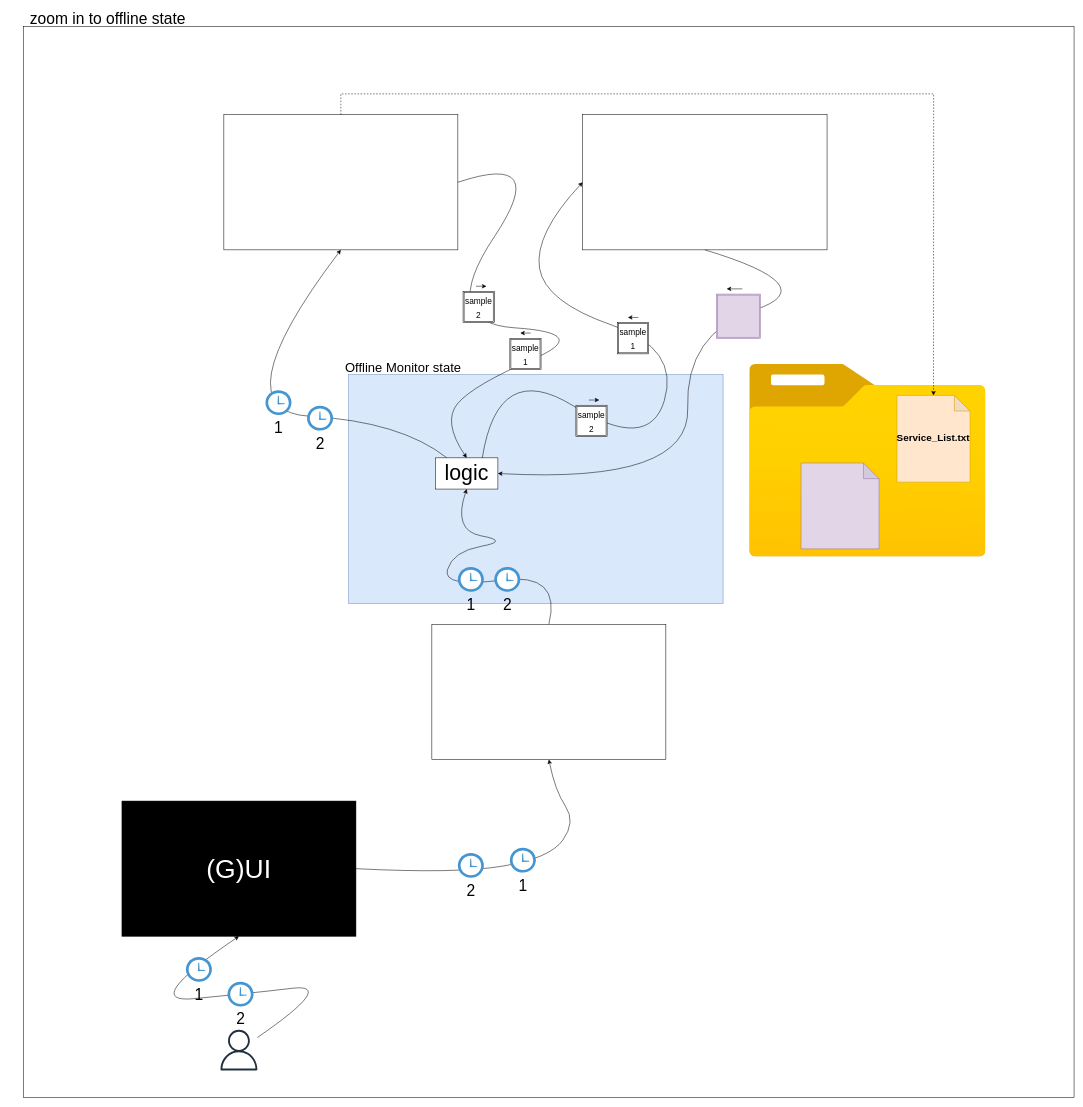
The diagram is 1083 pixels wide and 1107 high, and some of its shapes have lost their labels. Each missing label, with the box of its shape:
Comparison Unit: (582, 114, 827, 250)
export sample Unit: (223, 114, 458, 250)
log: (716, 294, 760, 338)
Logic Unit: (431, 624, 666, 759)
Status_Log.txt: (801, 463, 879, 549)
